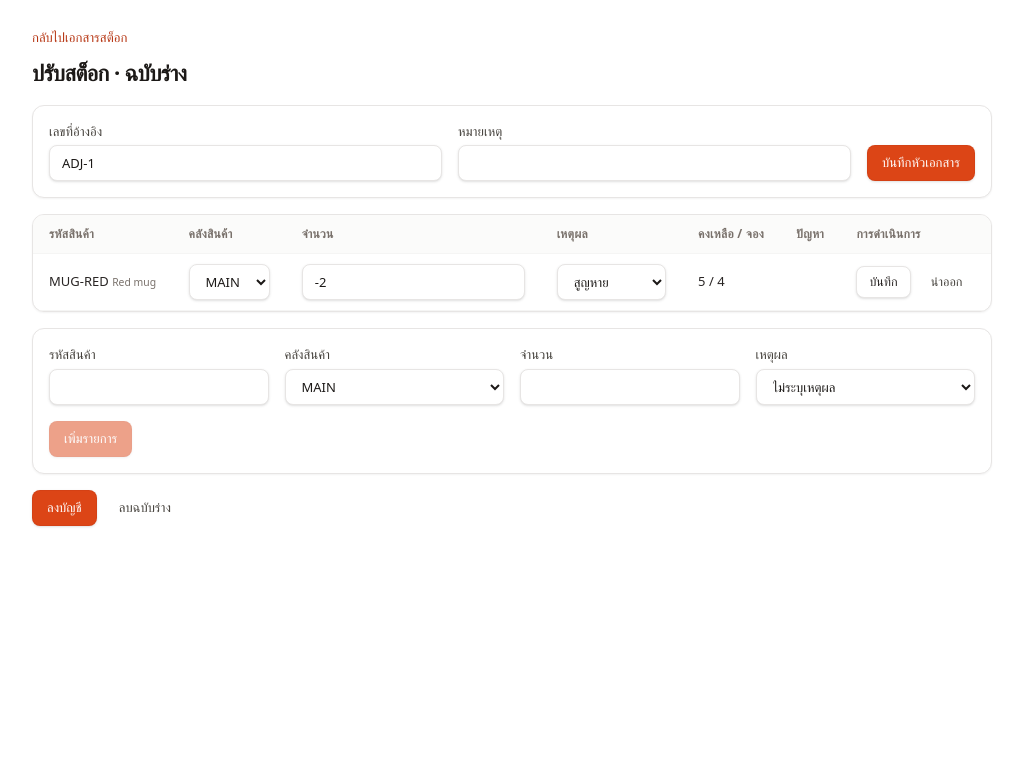
Test: StockDocumentPage › cancels ลงบัญชี through Dialog without an API mutation
What coordinates should you click on to do the following:
click the button "ลงบัญชี"
I would click on:
 (64, 508)
Its box is [32, 490, 97, 526].
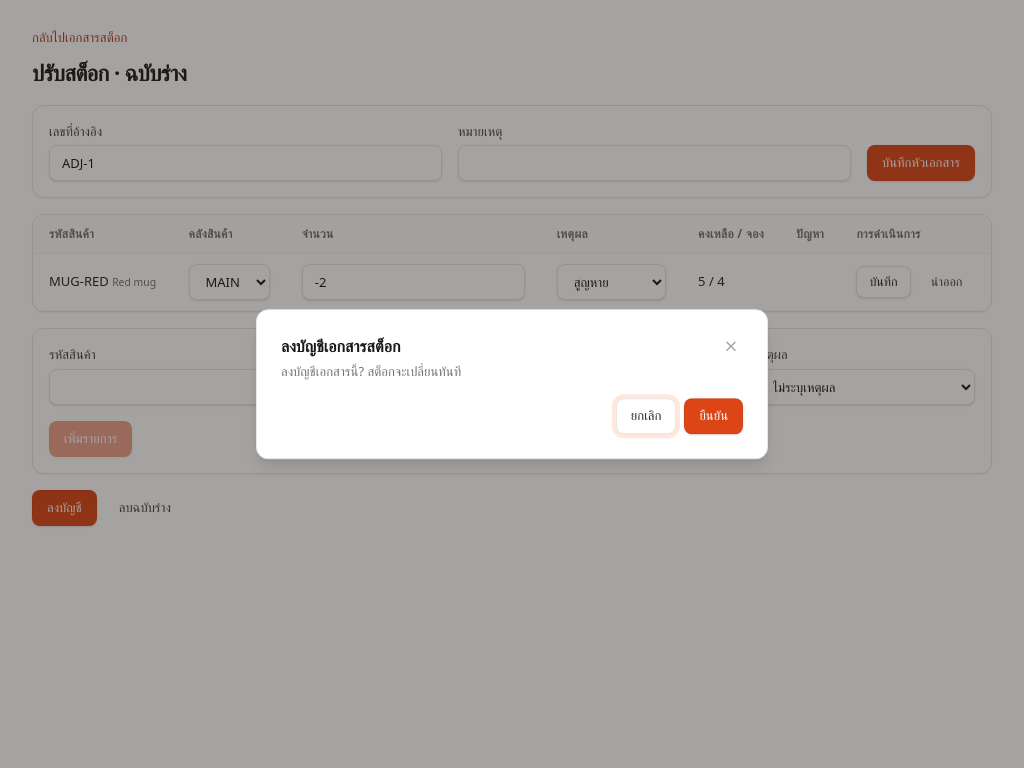
Expected: the dialog "ลงบัญชีเอกสารสต็อก" is shown, [256, 309, 768, 459]
What coordinates should you click on to do the following:
click the button "ยกเลิก"
I would click on:
 (646, 416)
Its box is [616, 398, 676, 434].
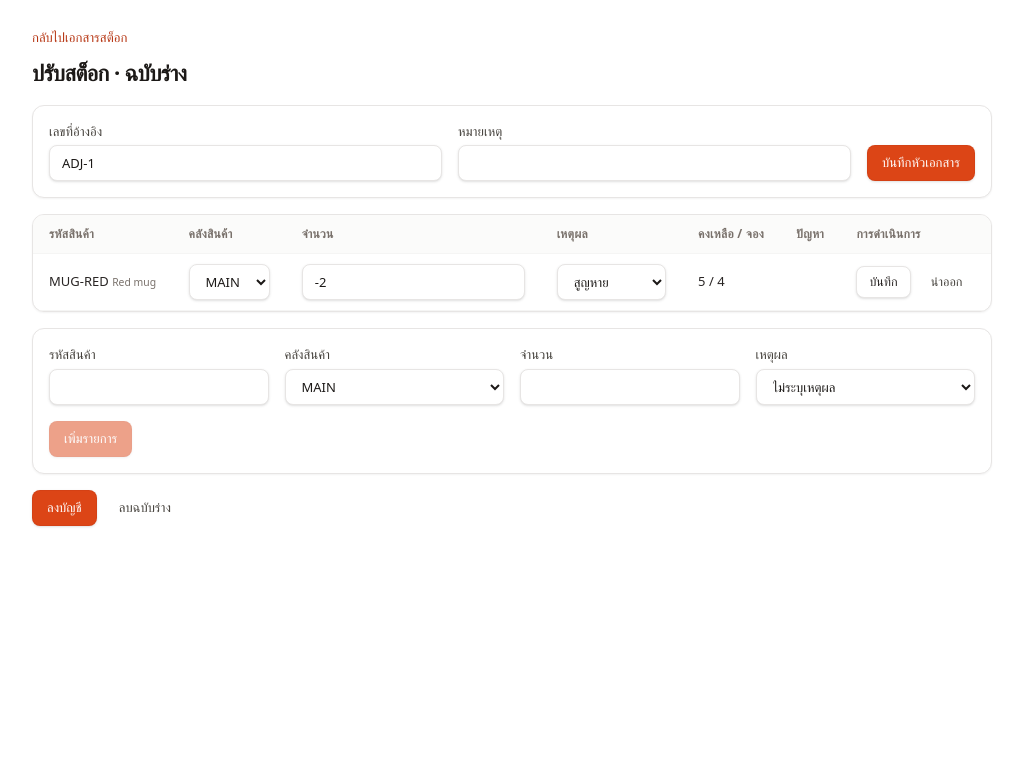
Expected: the dialog is gone
